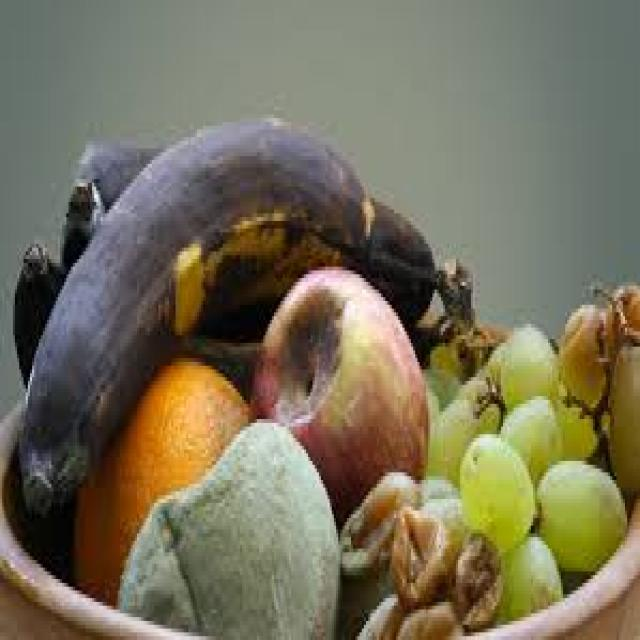organic waste: (13, 110, 372, 522), (75, 137, 473, 339), (113, 412, 336, 636), (248, 263, 428, 526), (73, 354, 246, 610), (58, 172, 257, 392), (535, 454, 625, 576), (456, 427, 533, 552), (338, 469, 415, 575), (9, 240, 62, 385), (389, 499, 454, 606), (486, 320, 556, 419), (447, 526, 503, 628), (496, 392, 560, 477), (558, 301, 606, 411), (501, 526, 559, 617), (608, 339, 638, 491), (428, 392, 477, 468), (552, 385, 597, 461), (417, 468, 458, 548), (394, 594, 460, 636), (456, 374, 501, 431), (355, 591, 409, 636), (606, 286, 638, 350), (422, 362, 460, 408), (473, 324, 509, 358)
